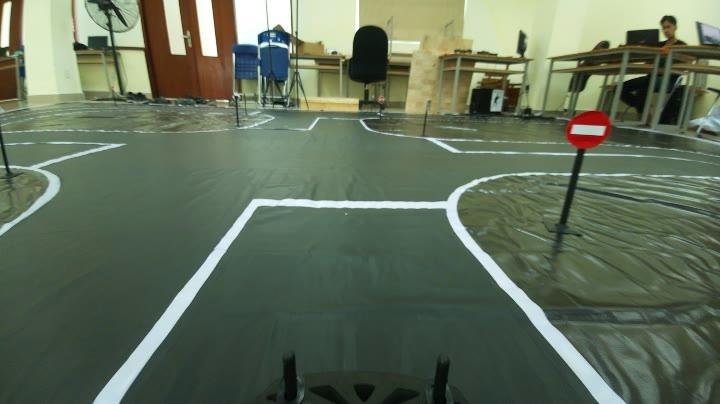no_entry: (564, 106, 612, 158)
